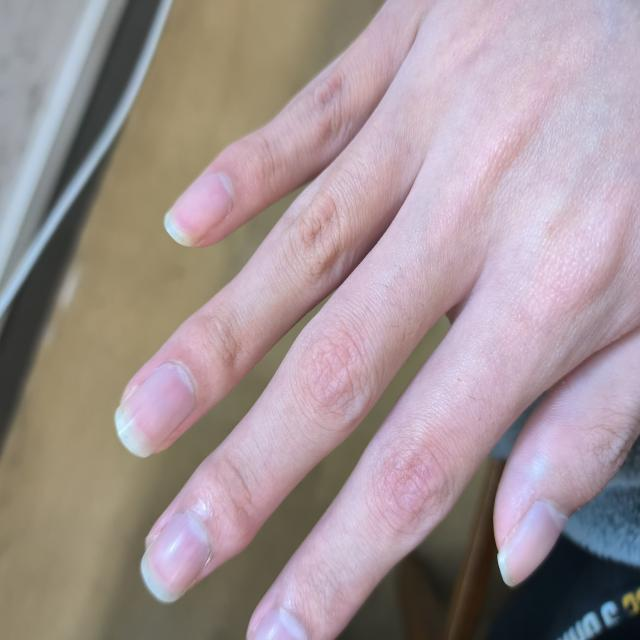Nail: (116, 365, 195, 456), (141, 514, 210, 603), (498, 502, 568, 587), (165, 173, 233, 245), (250, 609, 308, 640)
